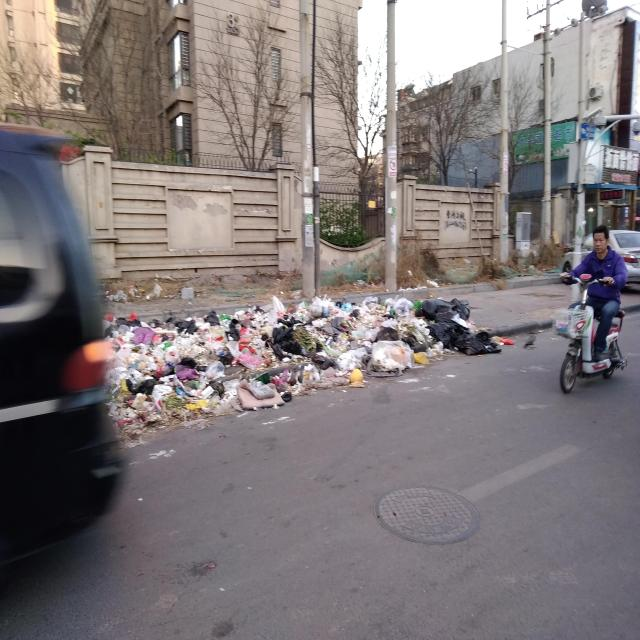garbage: (247, 294, 491, 383), (114, 302, 274, 425)
